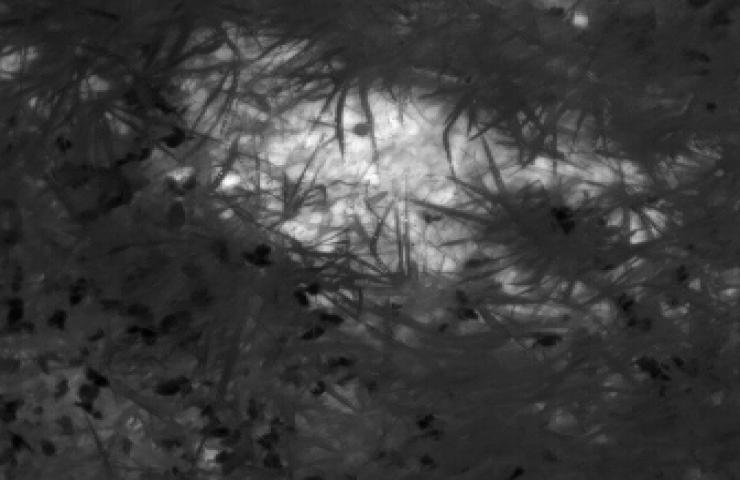landmines: (165, 12, 537, 280)
